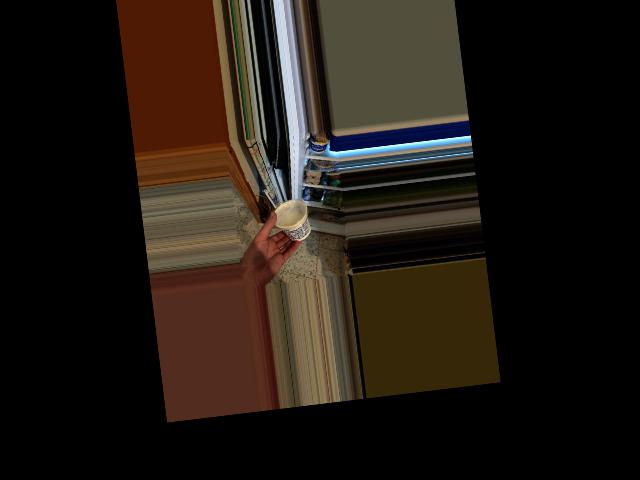cotage: (271, 198, 308, 244)
